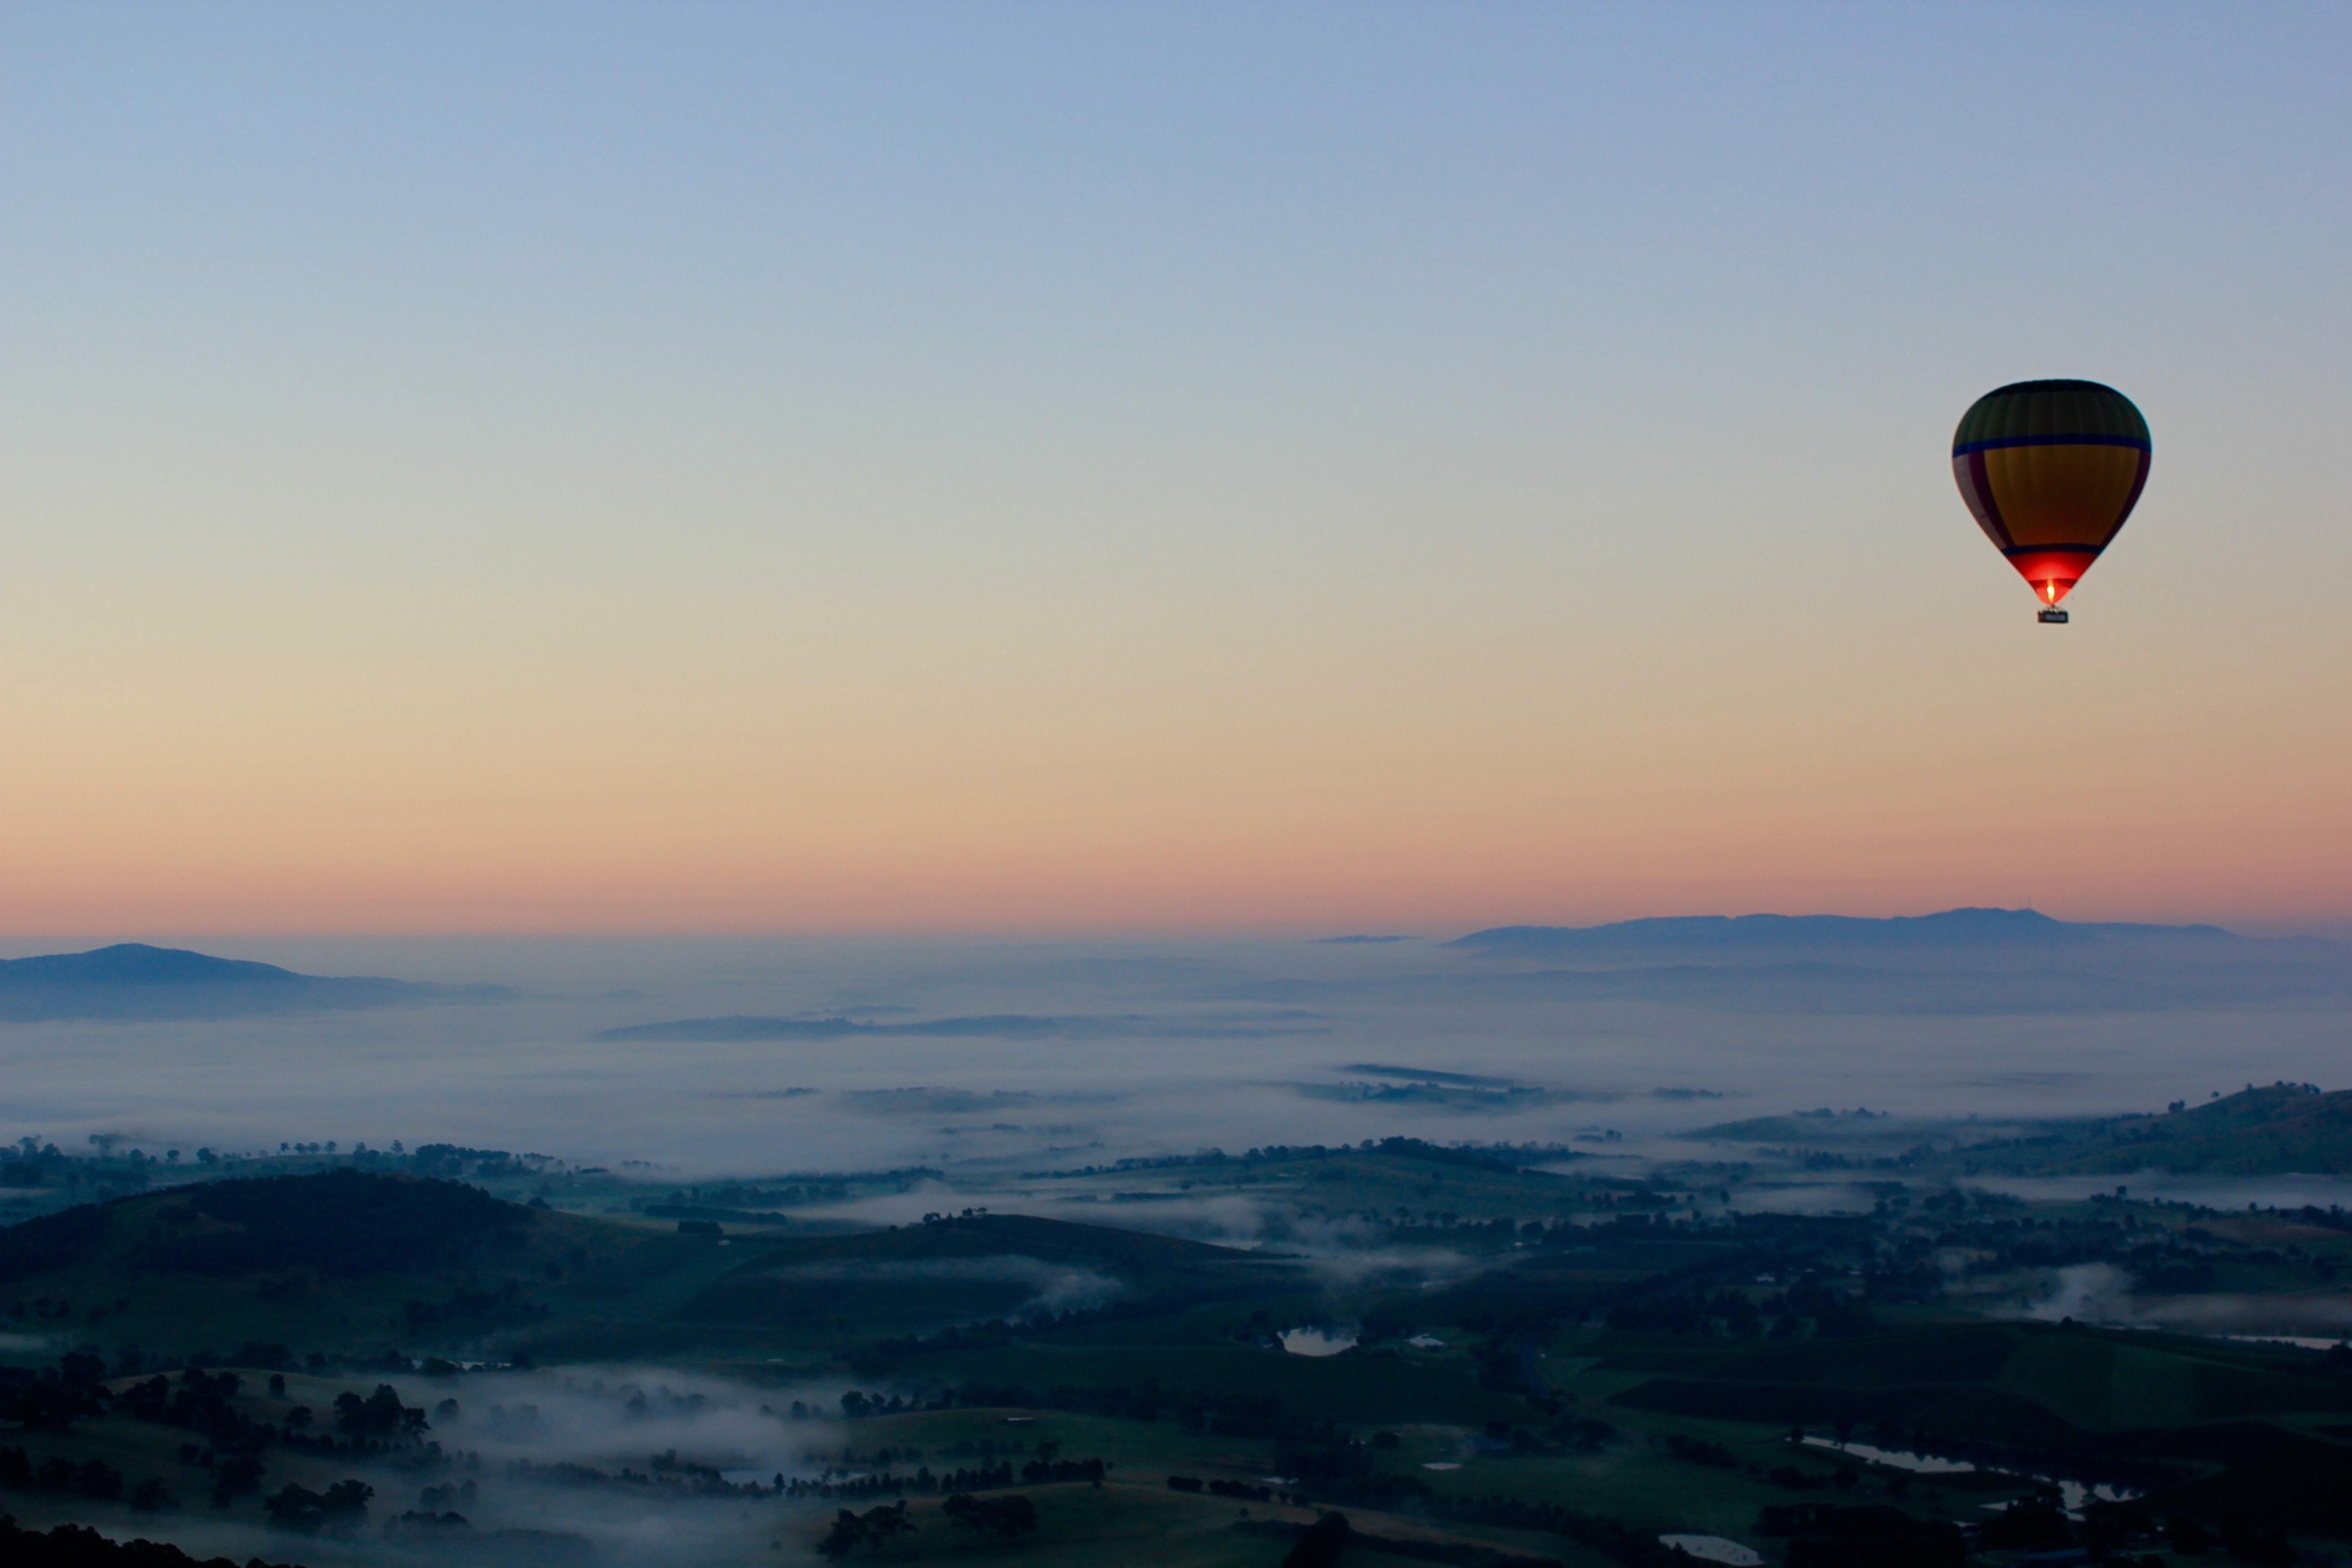hot air ballon: (1953, 380, 2151, 625)
